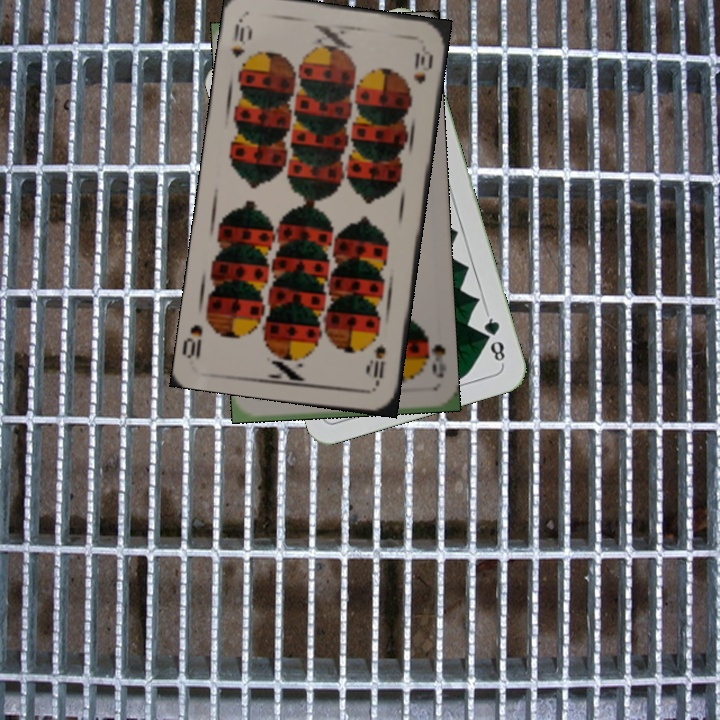G8: (479, 309, 508, 367)
S10: (228, 16, 254, 61), (367, 340, 388, 388)
SO: (427, 340, 449, 380)
